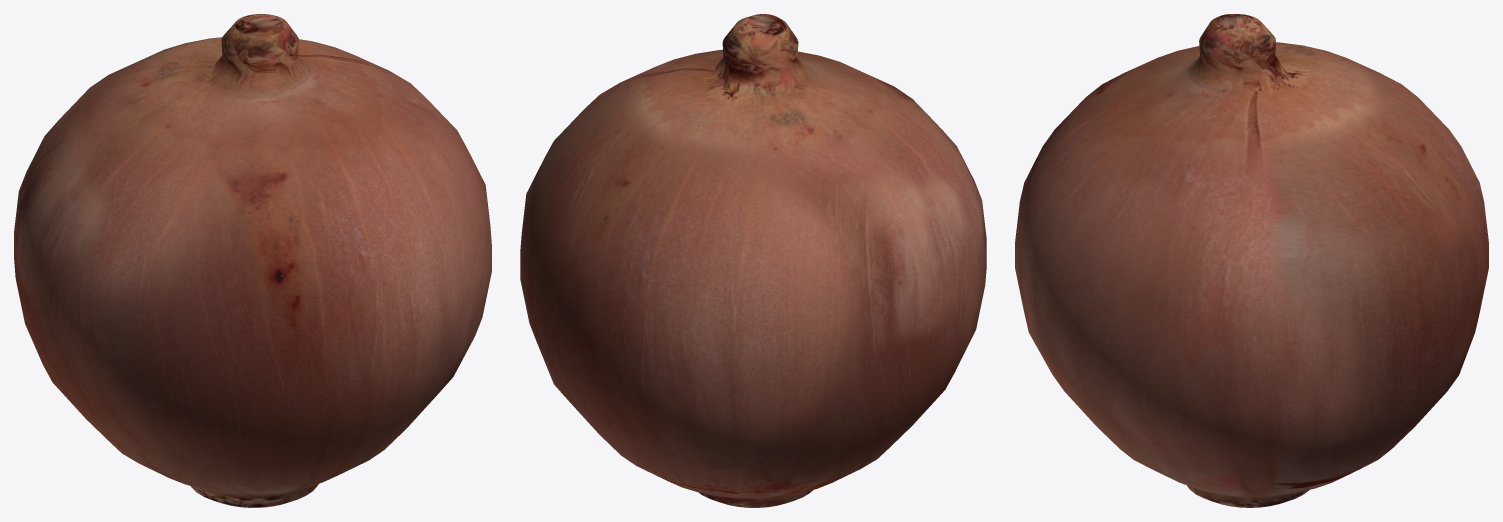
The model's file is onion.glb.
The picture shows the model from 3 angles, left to right: view 1: azimuth 30°, elevation 25°; view 2: azimuth 150°, elevation 25°; view 3: azimuth 270°, elevation 25°; orthographic projection. The views are drawn at different scales.
Visible parts, largest first — view 1: Onion; view 2: Onion; view 3: Onion.
Part boxes in pixels (x1,y1,x2,y2): Onion: (14,14,491,507); Onion: (520,14,986,507); Onion: (1015,14,1488,507).
Bounding box in the file's own units: 9.82 × 10.76 × 9.82.
1 material, 1 textured.
